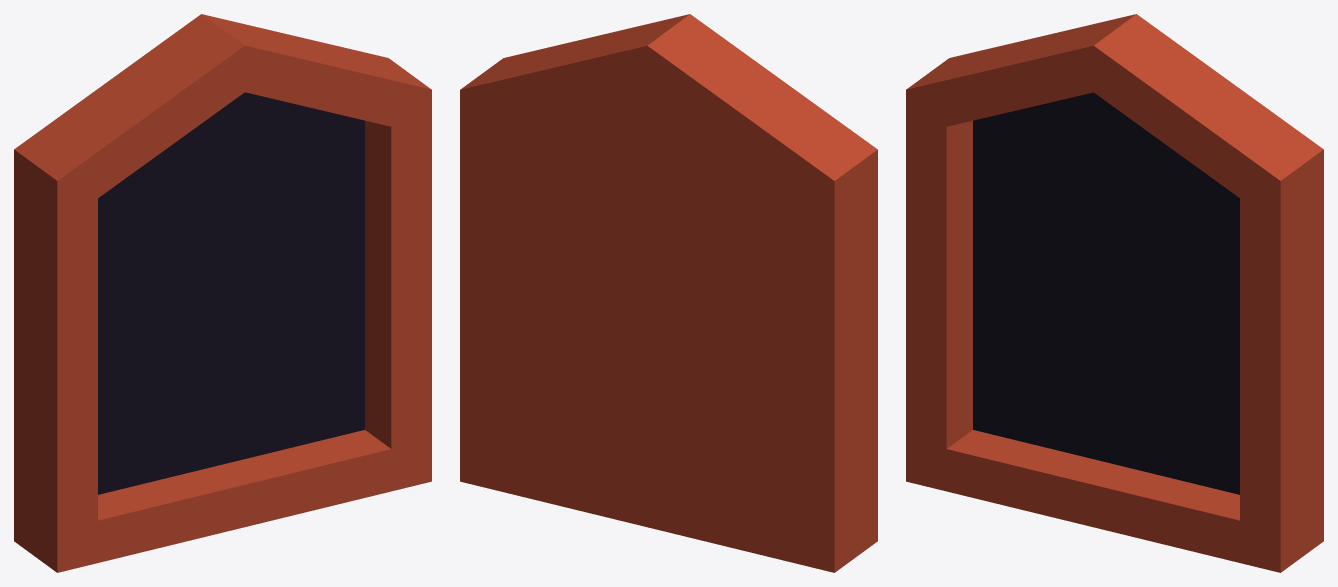
The model's file is Troop Gate.fbx.
3 views of the same model, side by side, from view 1: azimuth 30°, elevation 25°; view 2: azimuth 150°, elevation 25°; view 3: azimuth 330°, elevation 25° (orthographic).
Parts seen in each view (by area): view 1: Cube; view 2: Cube; view 3: Cube.
Boxes of the visible parts, box(x1,y1,x2,y2) form: Cube: box(14, 14, 431, 572); Cube: box(460, 14, 877, 572); Cube: box(906, 14, 1323, 572).
Bounding box in the file's own units: 200 × 246 × 40.
